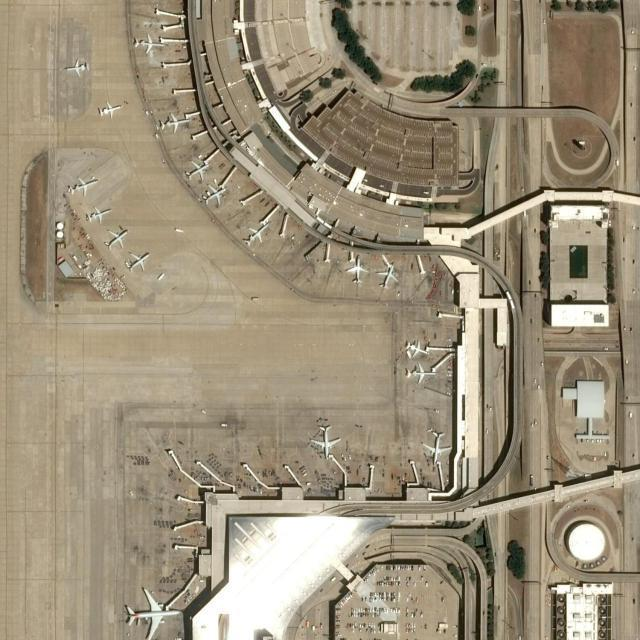Aircraft: (121, 585, 179, 639), (310, 424, 343, 458), (421, 430, 453, 464), (375, 261, 401, 291), (404, 361, 436, 385), (346, 254, 370, 284), (134, 34, 166, 55), (159, 112, 189, 134), (201, 183, 227, 208), (183, 158, 211, 181), (242, 222, 266, 248), (69, 176, 99, 195), (125, 250, 150, 272), (404, 338, 429, 360), (84, 204, 111, 223), (64, 59, 88, 78), (105, 229, 129, 248), (98, 99, 120, 118)
